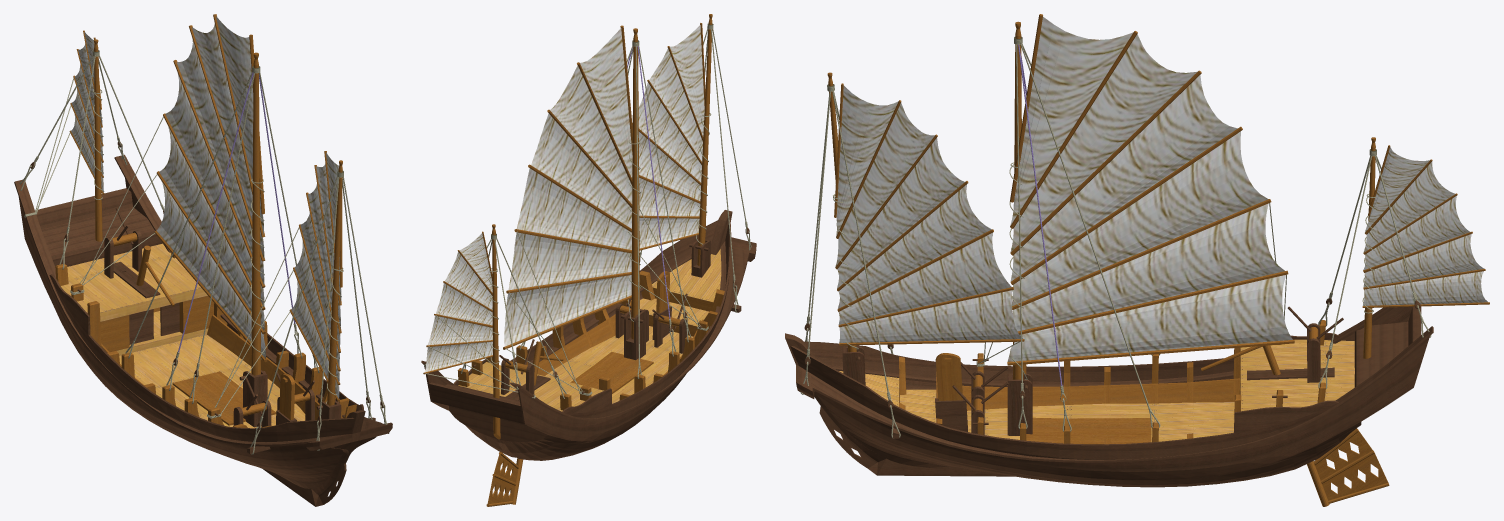
3 views of the same model, side by side, from view 1: azimuth 30°, elevation 25°; view 2: azimuth 150°, elevation 25°; view 3: azimuth 270°, elevation 25° (orthographic). The views are drawn at different scales.
Parts seen in each view (by area): view 1: SZPOMH9F4RZGN7GBKE8SM1V32; view 2: SZPOMH9F4RZGN7GBKE8SM1V32; view 3: SZPOMH9F4RZGN7GBKE8SM1V32.
Part boxes in pixels (x1=…): SZPOMH9F4RZGN7GBKE8SM1V32: x1=14, y1=14, x2=392, y2=506; SZPOMH9F4RZGN7GBKE8SM1V32: x1=421, y1=14, x2=756, y2=506; SZPOMH9F4RZGN7GBKE8SM1V32: x1=785, y1=14, x2=1489, y2=506.
Size of the model in its own units: 67.13 by 193 by 250.
Materials: 7 (7 with a texture image).
